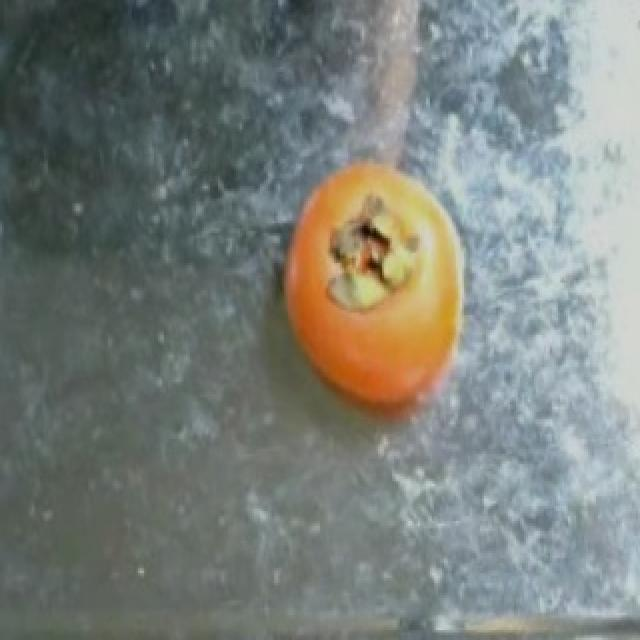Fruit: (258, 141, 492, 464)
